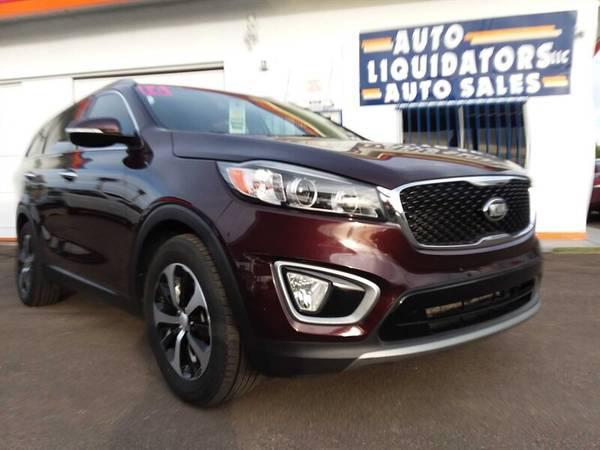Front_Bumper: (202, 198, 537, 371)
Front_Fender: (121, 130, 229, 300)
Front_Right_Door: (69, 144, 130, 309)
Front_Right_Window: (71, 99, 135, 153)
Front_Windshield: (142, 78, 368, 137)
Grille: (386, 169, 530, 255)
Hood: (162, 125, 520, 185)
Rear_Right_Door: (20, 158, 73, 276)
Rear_Right_Window: (32, 106, 84, 163)
Right_Headlight: (214, 158, 393, 224)
Roof: (79, 78, 158, 133)
Wheel: (135, 232, 237, 400), (19, 229, 65, 304)
